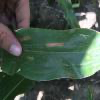Corn Gray leaf spot: (0, 22, 78, 73)
